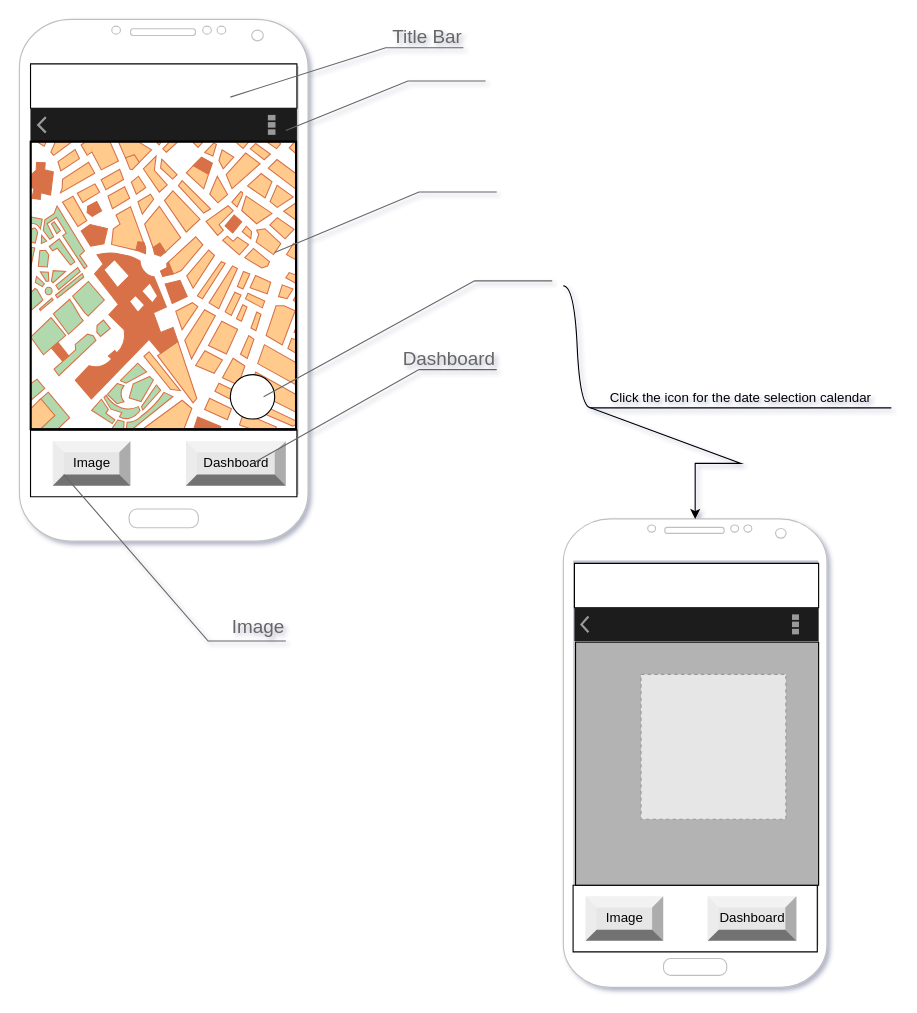
This 917x1013 diagram has some shape labels left out. Grey dashed boxes stand in for pictures. Here are the shapes that lost their labels. From the top down, the box of each, then its label:
(285, 52, 486, 130): Toolbar
(274, 163, 497, 253): Imported Image
(263, 251, 552, 397): Calendar Icon
